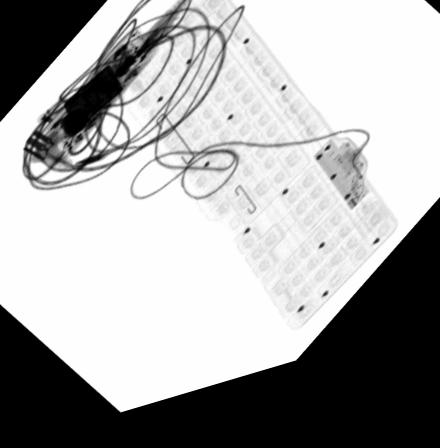Lighter: (63, 71, 123, 134)
